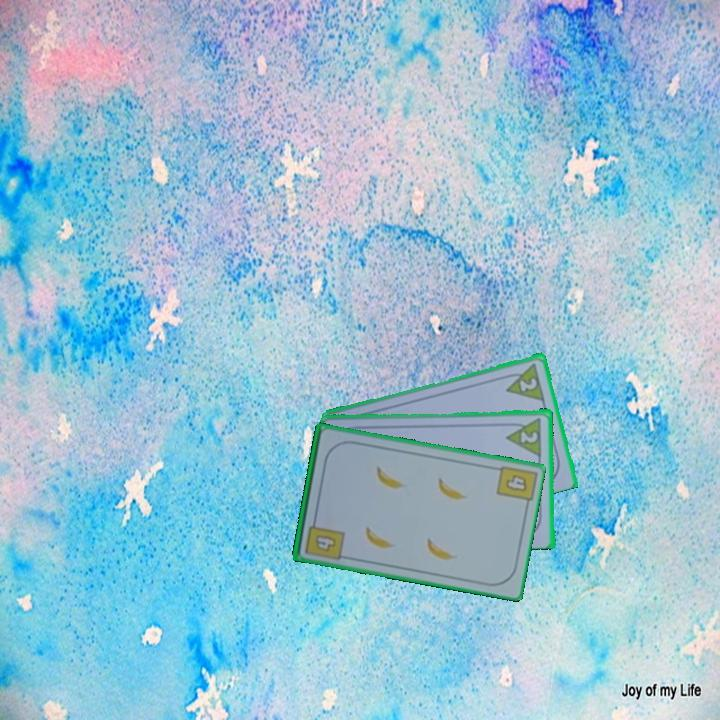2p: (516, 374, 540, 394), (517, 428, 541, 446)
4b: (302, 513, 347, 560), (502, 471, 530, 494)
